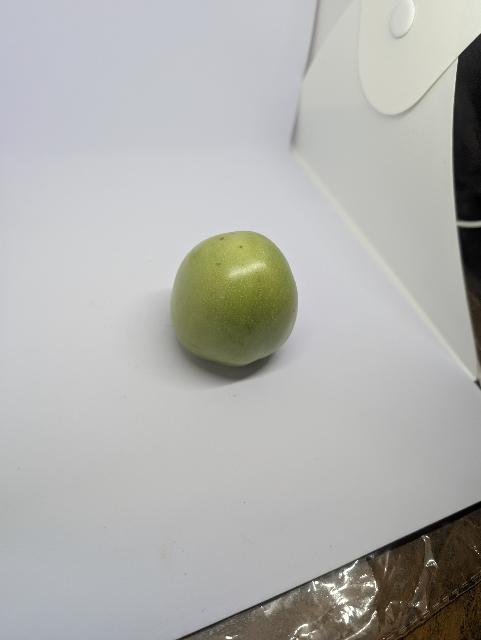green: (165, 223, 300, 370)
